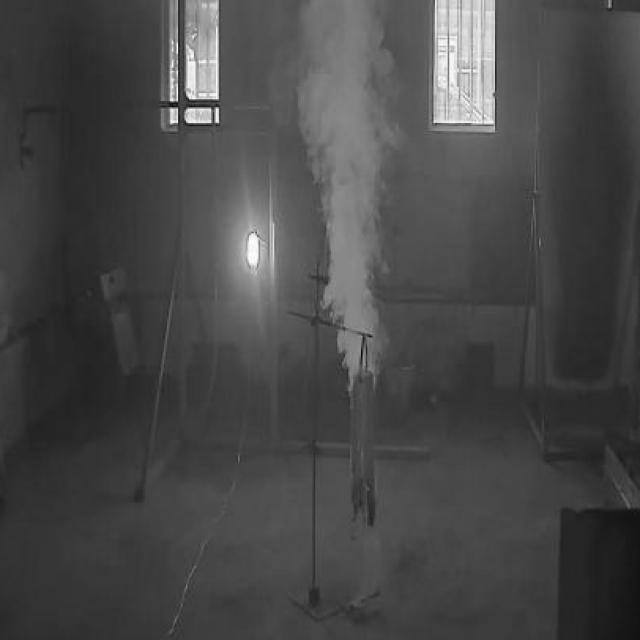fire: (286, 0, 409, 326)
